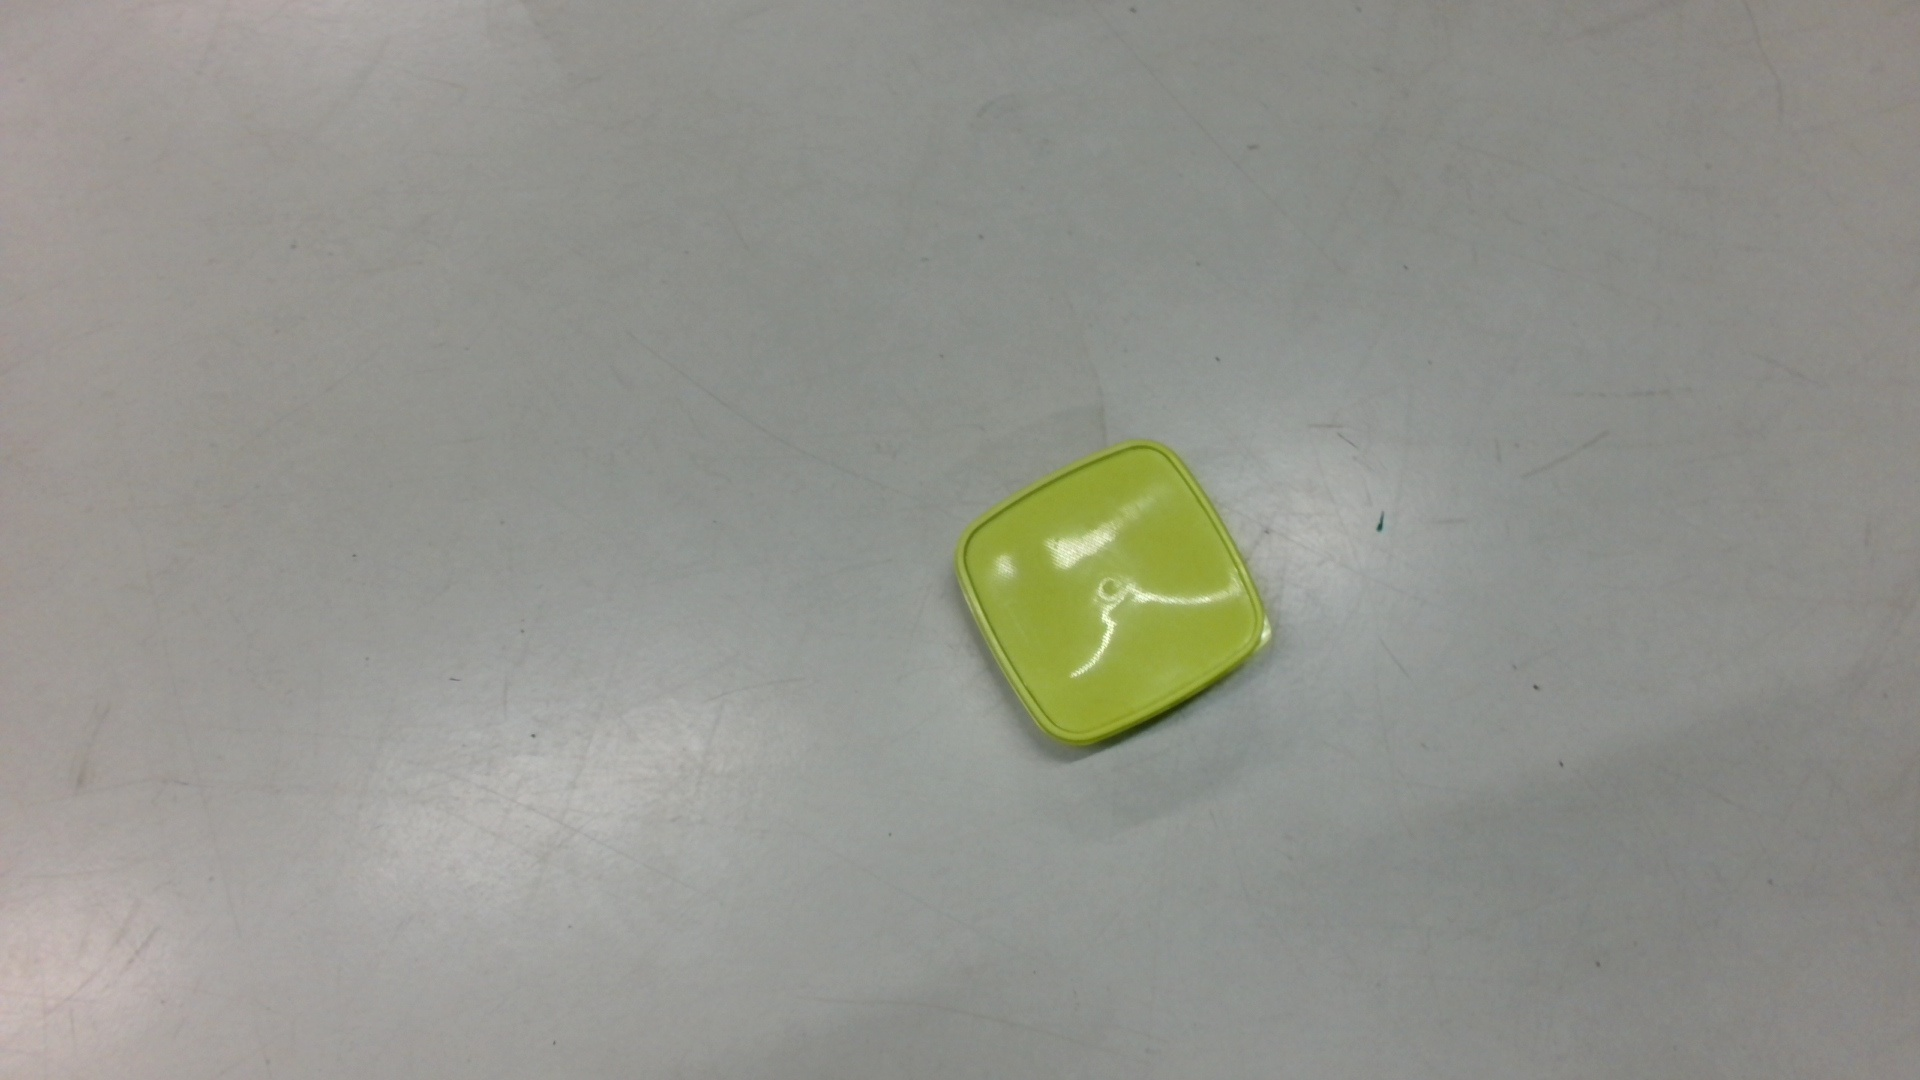Box: (947, 434, 1282, 756)
